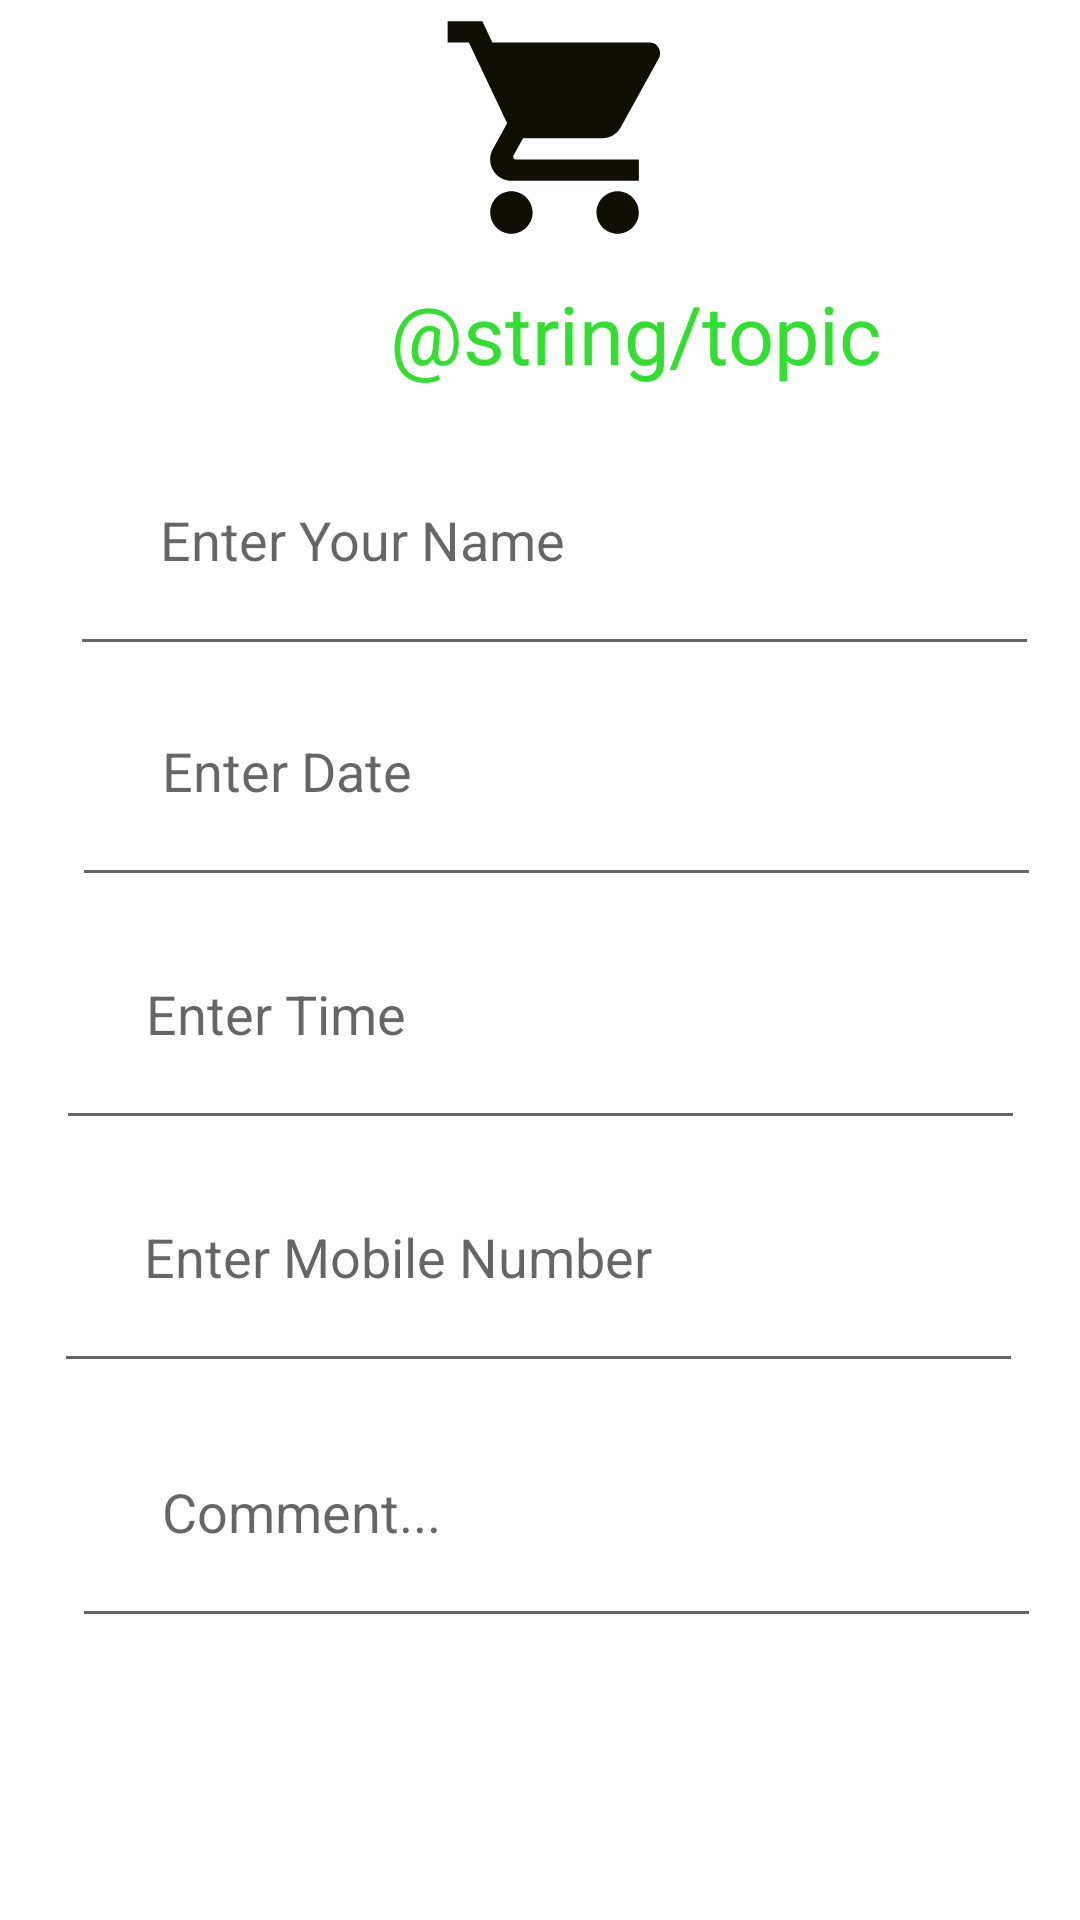

Named icons in this screenshot (1080 x 1920) and their centers, (x=x, y=y):
shopping cart: (x=553, y=127)
